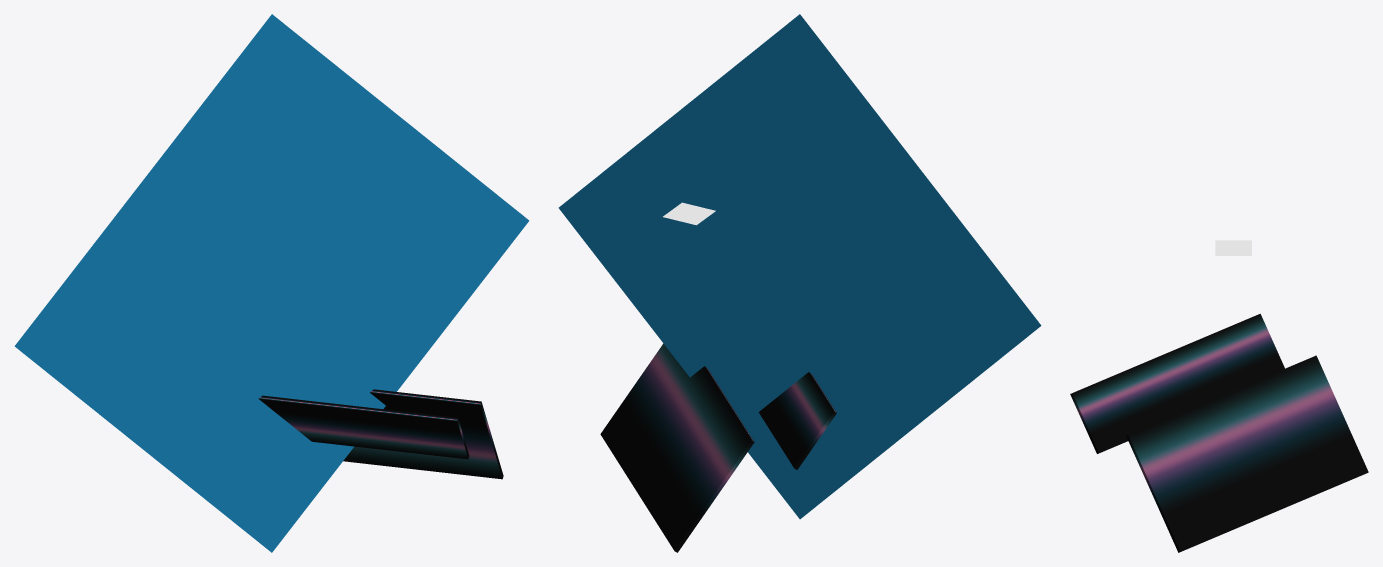
3 renders of one model, left to right at view 1: azimuth 30°, elevation 25°; view 2: azimuth 150°, elevation 25°; view 3: azimuth 270°, elevation 25°, orthographic. The views are drawn at different scales.
Parts seen in each view (by area): view 1: Plane, Ground (×2); view 2: Plane, Ground (×2), WaterMagic; view 3: Ground (×2), WaterMagic.
Part boxes in pixels (<box>): Plane: <box>14,14,529,552</box>; Ground (×2): <box>258,389,503,479</box>; Plane: <box>558,14,1041,519</box>; Ground (×2): <box>600,343,836,552</box>; WaterMagic: <box>663,202,715,225</box>; Ground (×2): <box>1070,313,1368,552</box>; WaterMagic: <box>1215,240,1251,255</box>.
Bounding box in the file's own units: 141 × 141 × 81.53.
3 materials, 1 textured.
